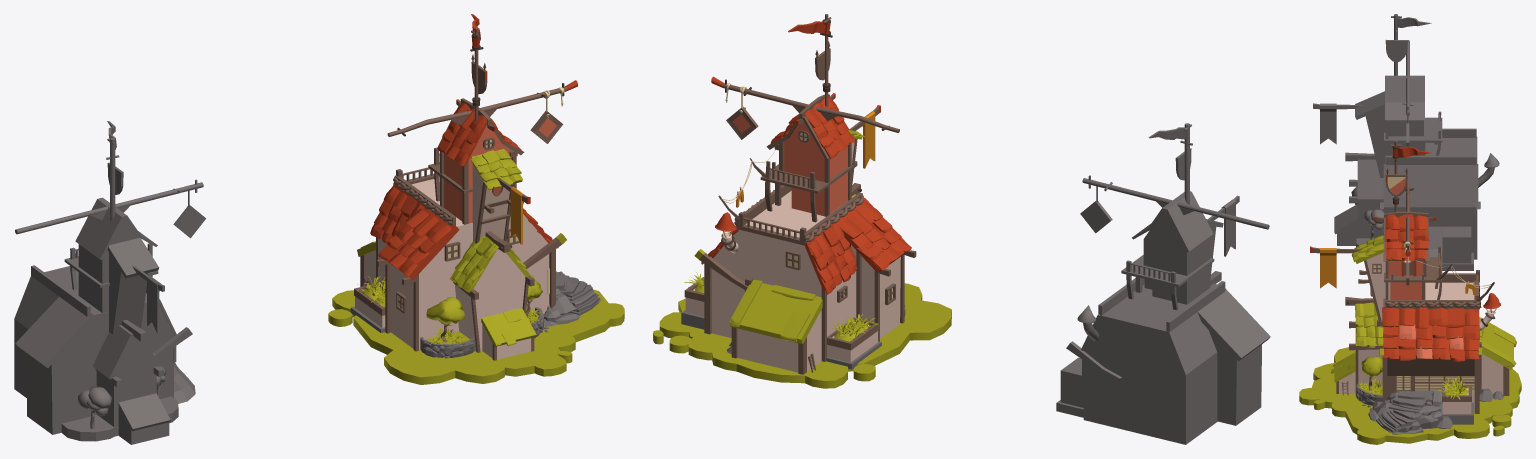
Rendered from house_draft.glb.
3 views of the same model, side by side, from view 1: azimuth 30°, elevation 25°; view 2: azimuth 150°, elevation 25°; view 3: azimuth 270°, elevation 25° (orthographic). The views are drawn at different scales.
Visible parts, largest first — view 1: curve9, house_draft; view 2: curve9, house_draft; view 3: curve9, house_draft.
Part boxes in pixels (left/top/right/bottom): curve9: left=328, top=14, right=624, bottom=384; house_draft: left=14, top=121, right=205, bottom=444; curve9: left=653, top=14, right=951, bottom=388; house_draft: left=1056, top=123, right=1270, bottom=444; curve9: left=1299, top=141, right=1521, bottom=444; house_draft: left=1313, top=14, right=1499, bottom=270.
Bounding box in the file's own units: 54.61 × 27.45 × 22.06.
